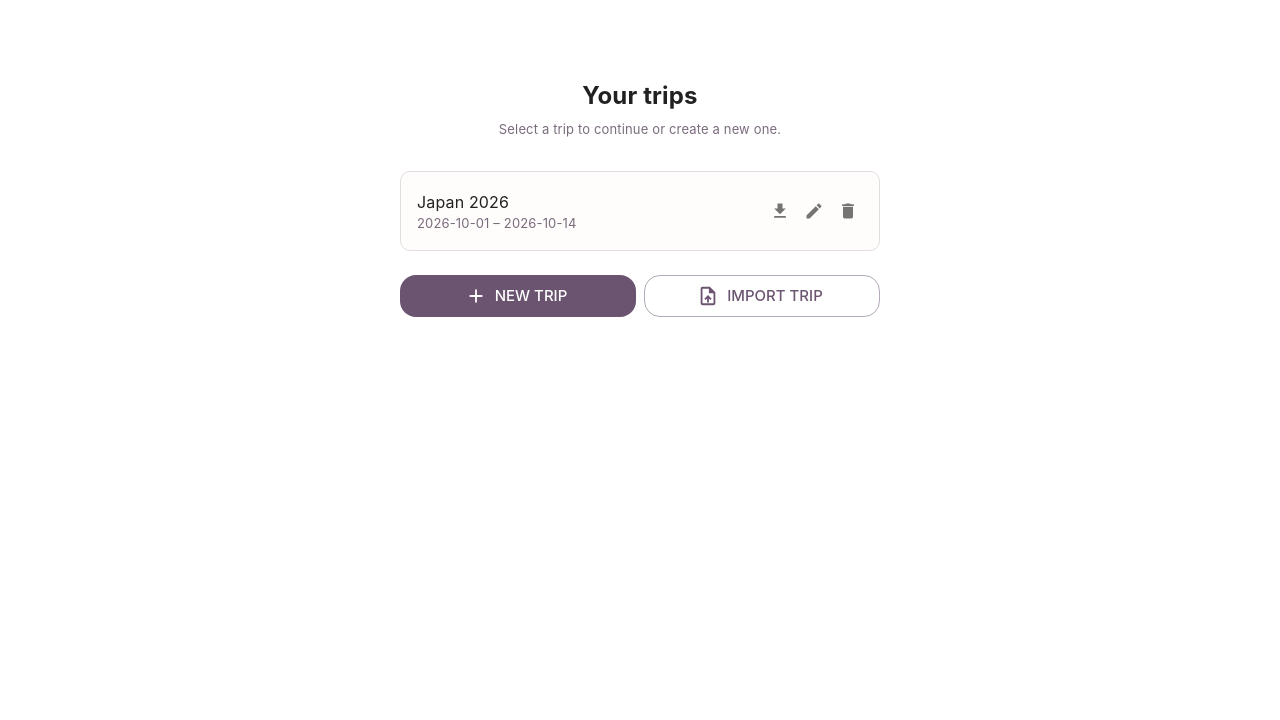
Test case: TripSelectorScreen — rename dialog › opens pre-filled with the trip name and saves via repo.updateTrip
Check: the text "Japan 2026" is shown, box [417, 192, 509, 212]
Click the button named "Rename Japan 2026" at [814, 211], box [799, 196, 829, 226]
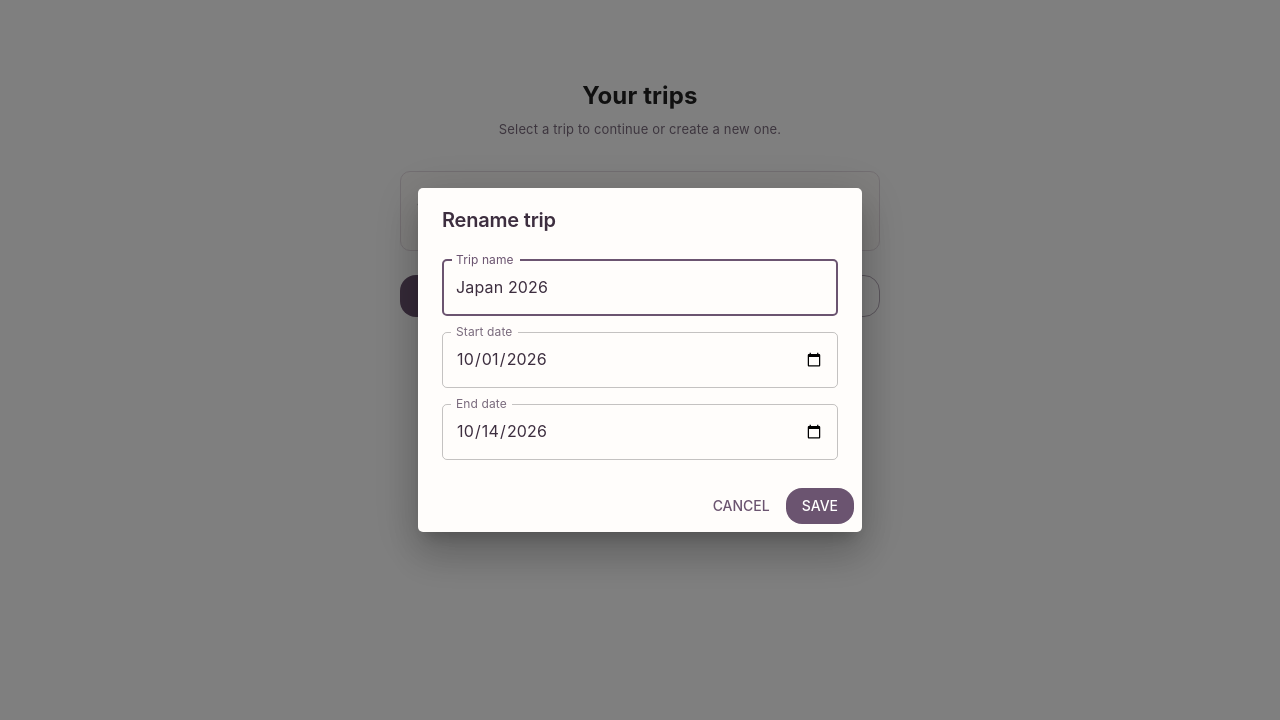
Check: the heading "Rename trip" is shown, box [442, 208, 556, 232]
Check: the field named "rename trip name" holds "Japan 2026"
Replace the text in the field named "rename trip name" with "Japan Autumn 2026" at [640, 288], box [442, 260, 838, 316]
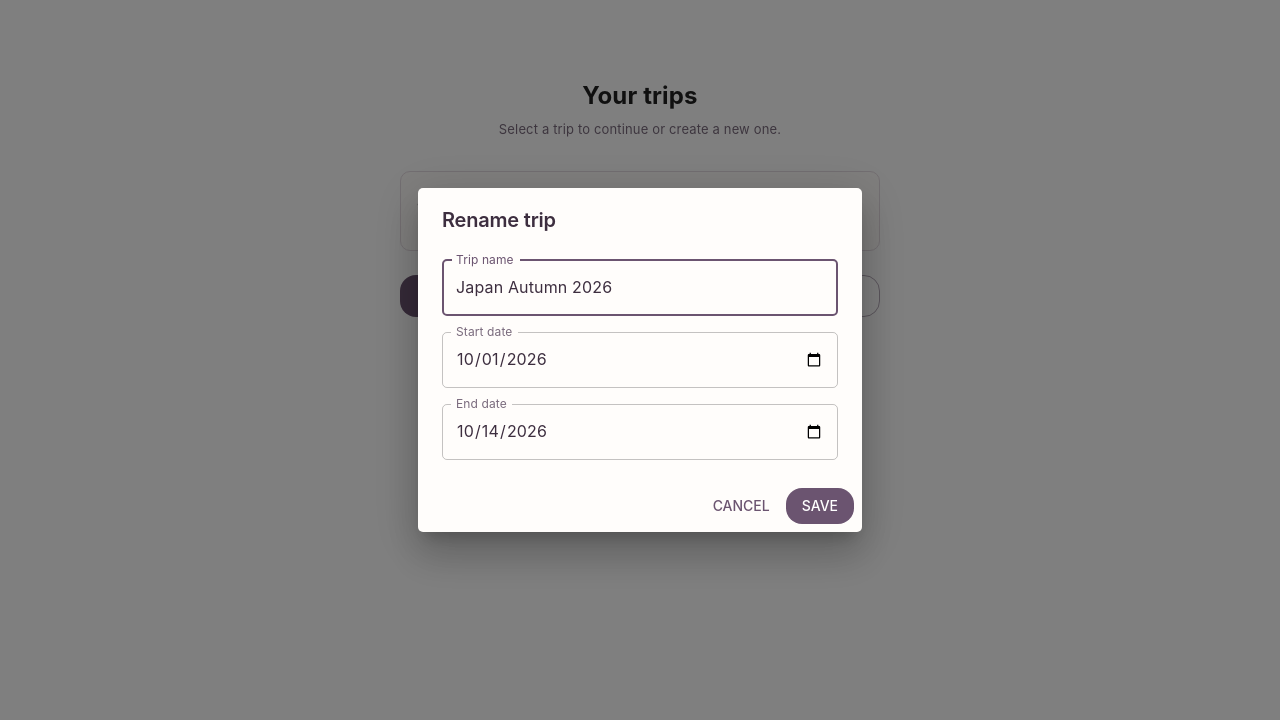
Click the button "Save" at [820, 506], box [786, 488, 854, 524]
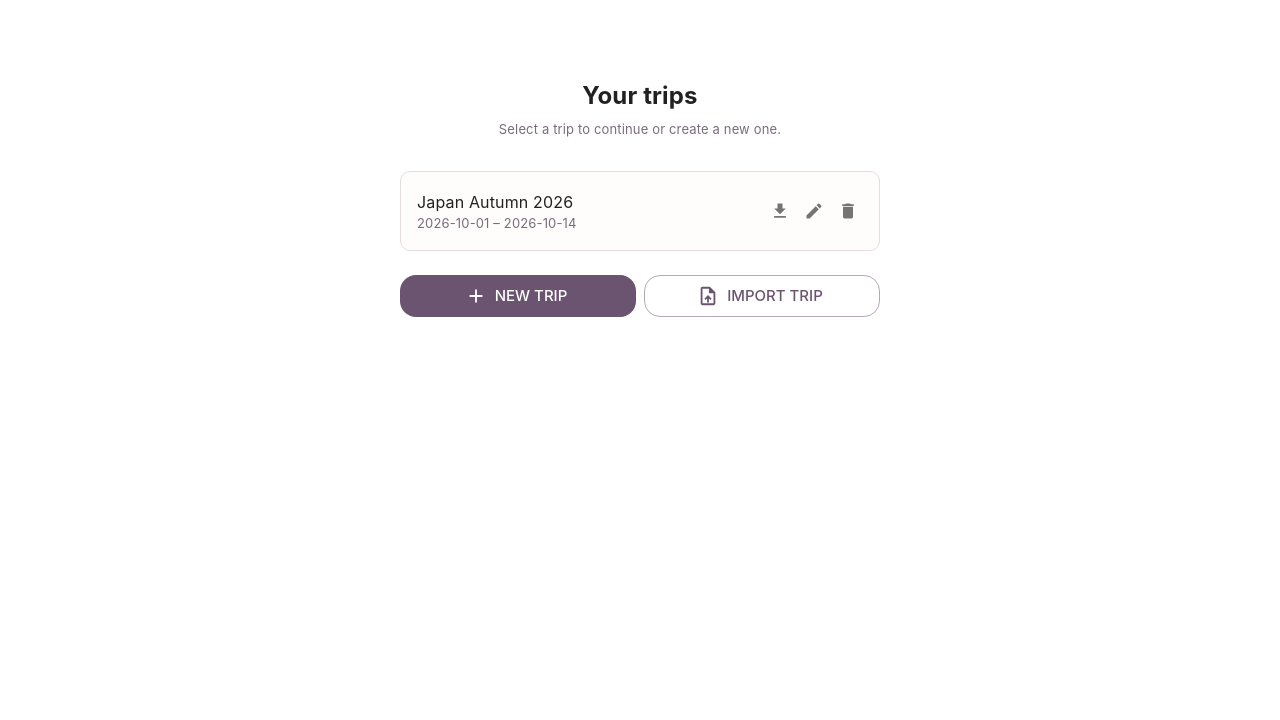
Check: the text "Japan Autumn 2026" is shown, box [417, 192, 573, 212]
